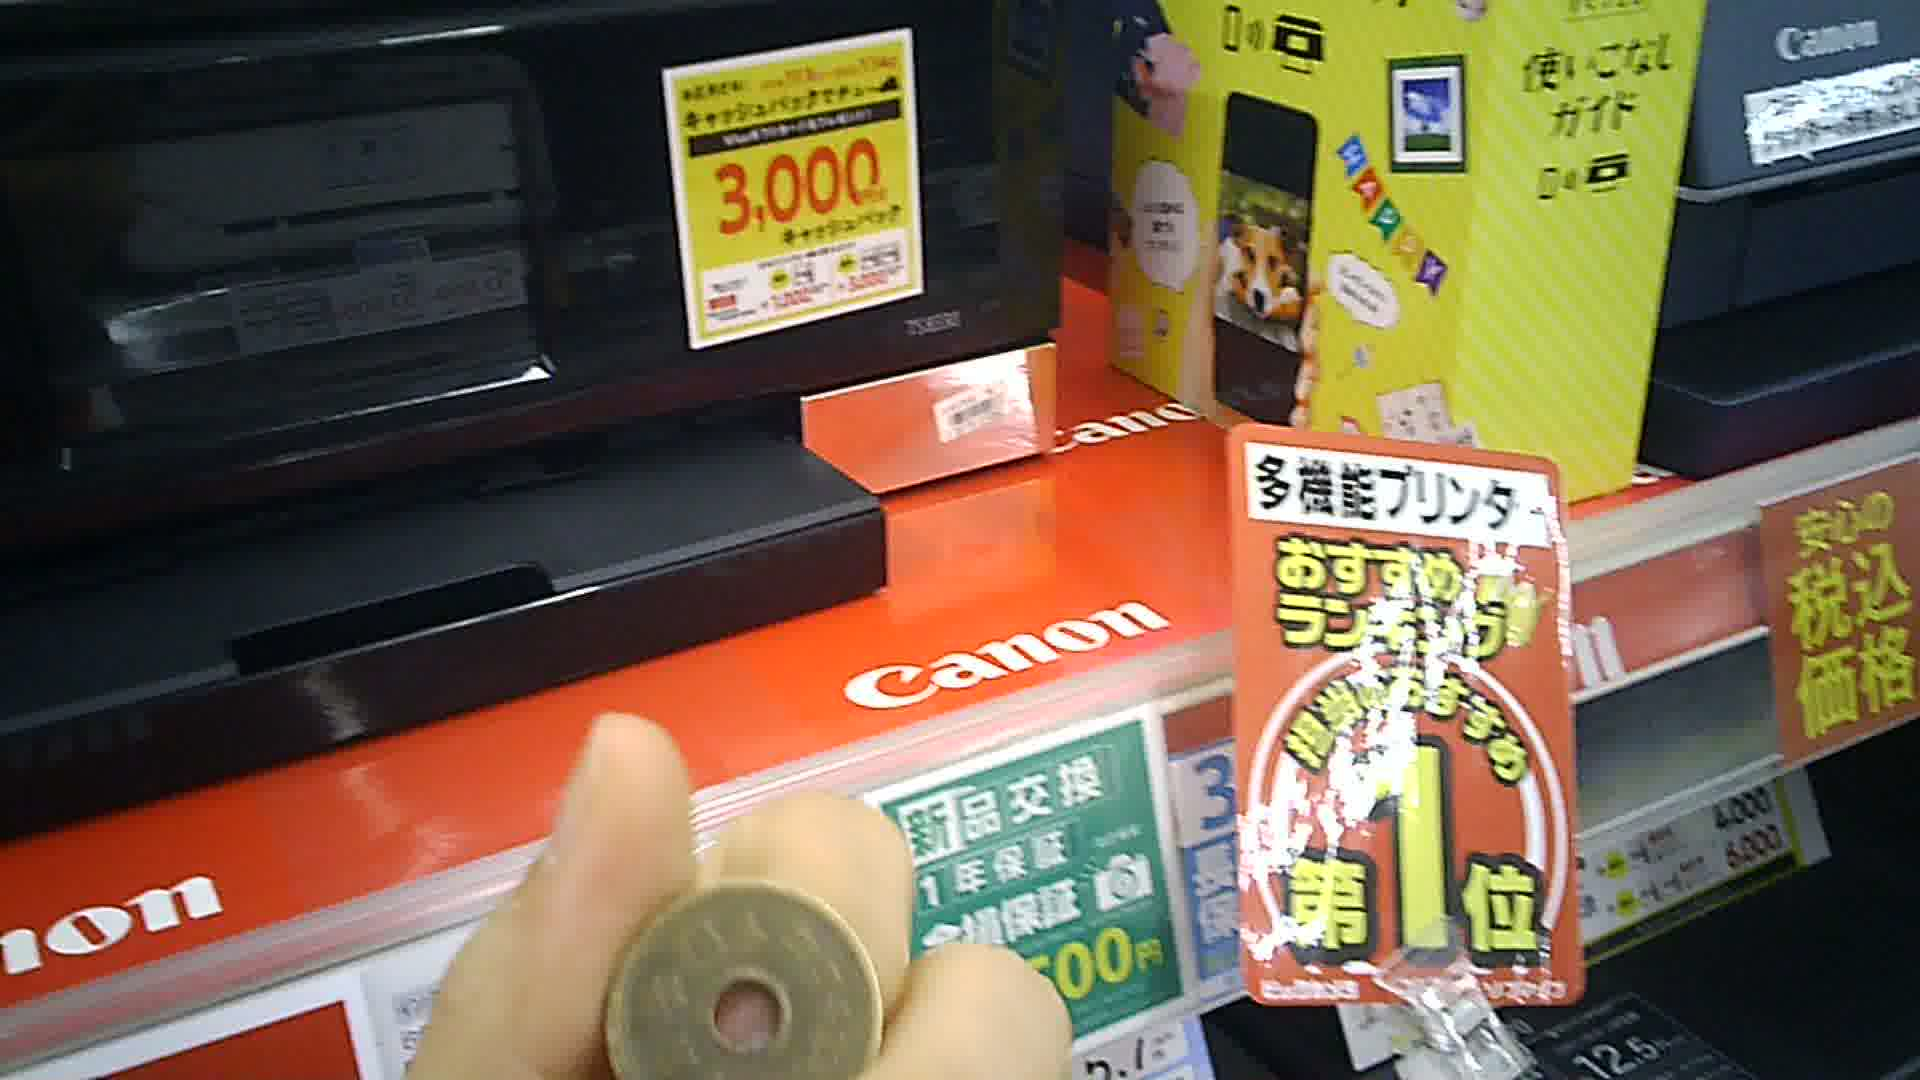5 Yen: (601, 880, 891, 1079)
